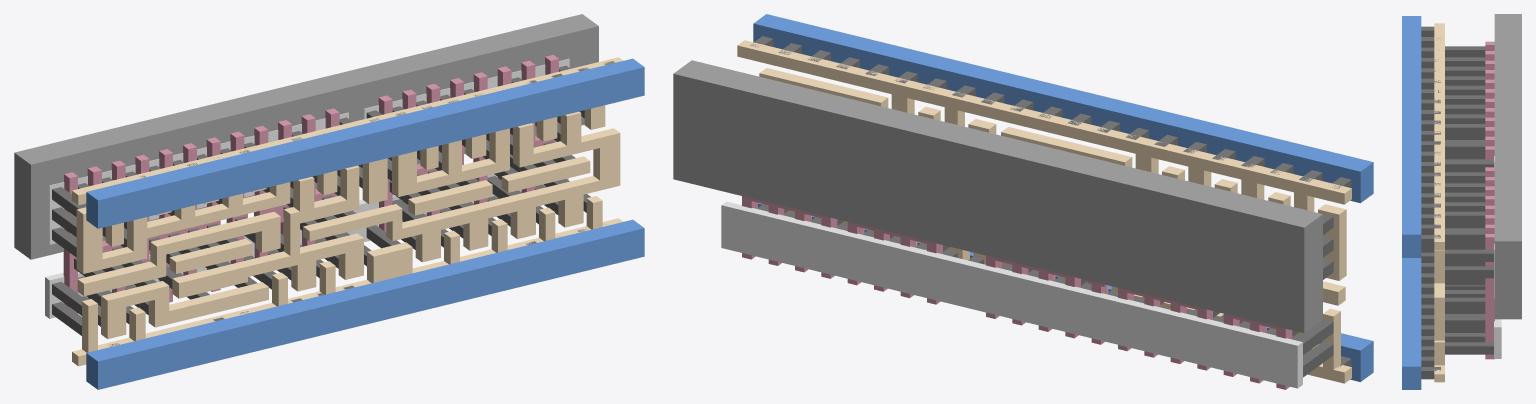
Rendered from sky130_fd_sc_hd__a2bb2oi_4.gds.gltf.
3 renders of one model, left to right at view 1: azimuth 30°, elevation 25°; view 2: azimuth 150°, elevation 25°; view 3: azimuth 270°, elevation 25°, orthographic. The views are drawn at different scales.
Parts seen in each view (by area): view 1: sky130_fd_sc_hd__a2bb2oi_4_li1, sky130_fd_sc_hd__a2bb2oi_4_met1, sky130_fd_sc_hd__a2bb2oi_4_nwell, sky130_fd_sc_hd__a2bb2oi_4_licon, sky130_fd_sc_hd__a2bb2oi_4_poly, sky130_fd_sc_hd__a2bb2oi_4_diff; view 2: sky130_fd_sc_hd__a2bb2oi_4_nwell, sky130_fd_sc_hd__a2bb2oi_4_diff, sky130_fd_sc_hd__a2bb2oi_4_li1, sky130_fd_sc_hd__a2bb2oi_4_met1, sky130_fd_sc_hd__a2bb2oi_4_poly, sky130_fd_sc_hd__a2bb2oi_4_mcon, sky130_fd_sc_hd__a2bb2oi_4_licon; view 3: sky130_fd_sc_hd__a2bb2oi_4_licon, sky130_fd_sc_hd__a2bb2oi_4_nwell, sky130_fd_sc_hd__a2bb2oi_4_met1, sky130_fd_sc_hd__a2bb2oi_4_mcon, sky130_fd_sc_hd__a2bb2oi_4_li1, sky130_fd_sc_hd__a2bb2oi_4_poly, sky130_fd_sc_hd__a2bb2oi_4_diff.
Boxes of the visible parts, x1,y1,x2,y2 form: sky130_fd_sc_hd__a2bb2oi_4_li1: (72, 57, 622, 366); sky130_fd_sc_hd__a2bb2oi_4_met1: (86, 58, 644, 389); sky130_fd_sc_hd__a2bb2oi_4_nwell: (14, 14, 598, 259); sky130_fd_sc_hd__a2bb2oi_4_licon: (52, 65, 590, 335); sky130_fd_sc_hd__a2bb2oi_4_poly: (63, 55, 558, 313); sky130_fd_sc_hd__a2bb2oi_4_diff: (45, 58, 569, 318); sky130_fd_sc_hd__a2bb2oi_4_nwell: (673, 60, 1322, 333); sky130_fd_sc_hd__a2bb2oi_4_diff: (721, 201, 1302, 388); sky130_fd_sc_hd__a2bb2oi_4_li1: (737, 40, 1351, 383); sky130_fd_sc_hd__a2bb2oi_4_met1: (753, 14, 1373, 381); sky130_fd_sc_hd__a2bb2oi_4_poly: (742, 196, 1292, 389); sky130_fd_sc_hd__a2bb2oi_4_mcon: (750, 36, 1351, 367); sky130_fd_sc_hd__a2bb2oi_4_licon: (758, 128, 1333, 377); sky130_fd_sc_hd__a2bb2oi_4_licon: (1445, 46, 1493, 354); sky130_fd_sc_hd__a2bb2oi_4_nwell: (1494, 14, 1521, 319); sky130_fd_sc_hd__a2bb2oi_4_met1: (1402, 16, 1421, 389); sky130_fd_sc_hd__a2bb2oi_4_mcon: (1421, 26, 1440, 379); sky130_fd_sc_hd__a2bb2oi_4_li1: (1434, 23, 1444, 382); sky130_fd_sc_hd__a2bb2oi_4_poly: (1485, 41, 1494, 359); sky130_fd_sc_hd__a2bb2oi_4_diff: (1494, 156, 1501, 358).
Bounding box in the file's own units: 10.04 × 3.2 × 2.24.
